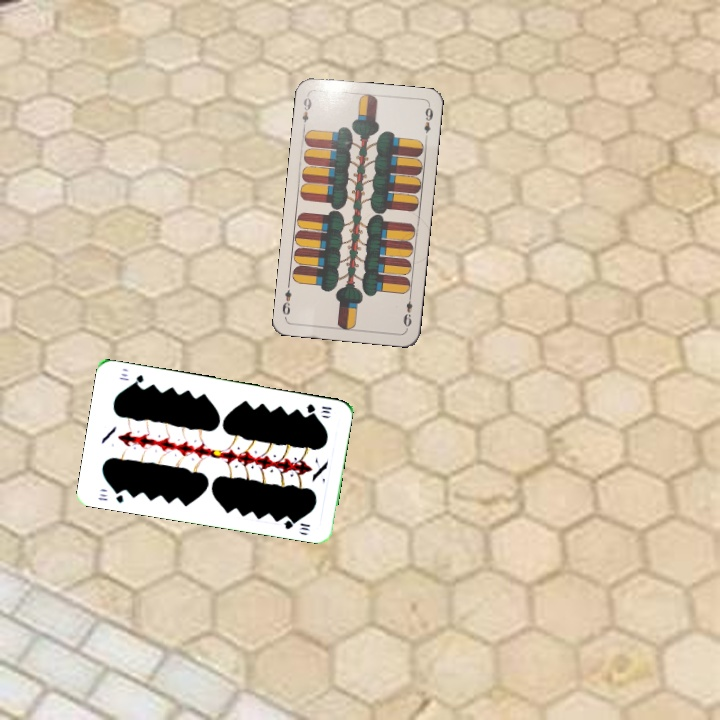E9: (399, 291, 415, 329), (298, 94, 314, 131)
G10: (94, 486, 126, 506), (303, 400, 334, 417)
